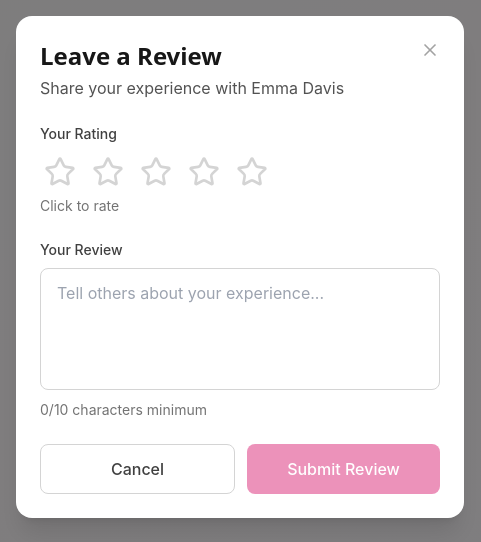
ReviewModal › should show rating descriptions
# Click each star and verify description
Click the 2nd button at (60, 172), box [40,152,80,192]
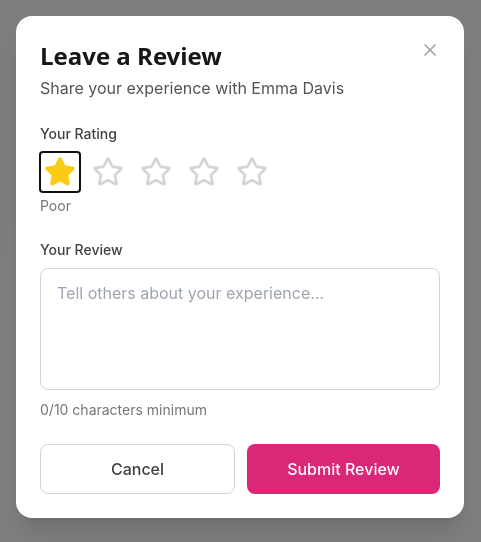
expect the text "Poor" is shown: met, box [40,197,71,214]
Click the 3rd button at (108, 172), box [88,152,128,192]
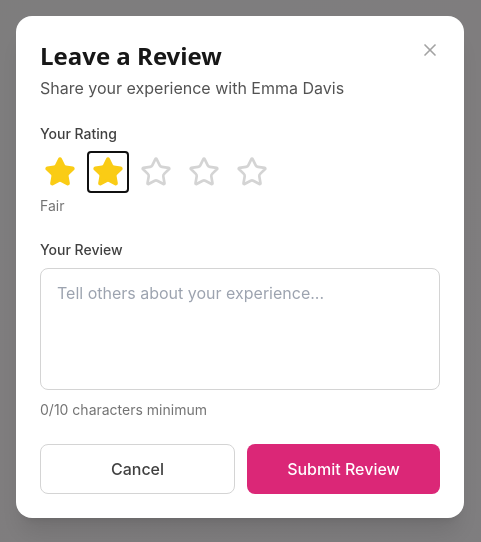
expect the text "Fair" is shown: met, box [40,197,64,214]
Click the 4th button at (156, 172), box [136,152,176,192]
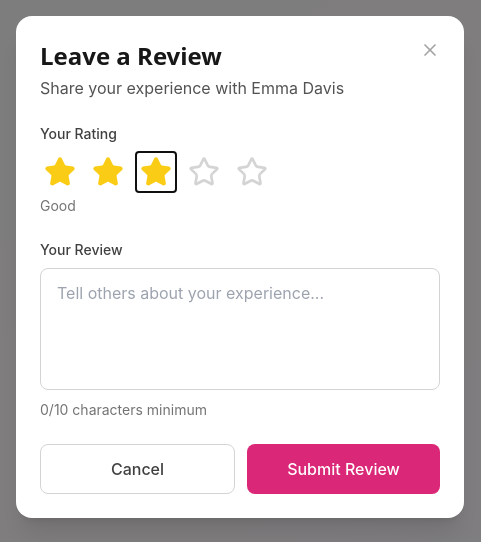
expect the text "Good" is shown: met, box [40,197,76,214]
Click the 5th button at (204, 172), box [184,152,224,192]
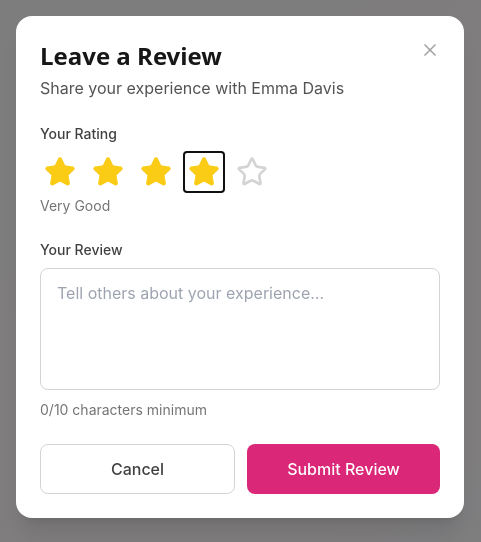
expect the text "Very Good" is shown: met, box [40,197,110,214]
Click the 6th button at (252, 172), box [232,152,272,192]
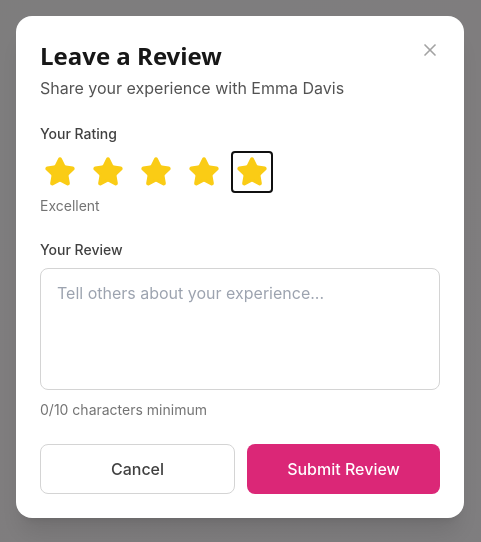
expect the text "Excellent" is shown: met, box [40,197,100,214]
